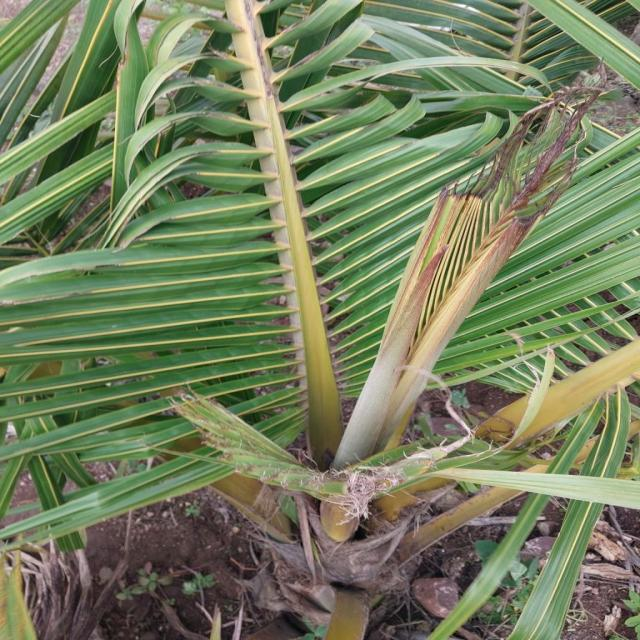bud rot: (333, 85, 598, 467)
